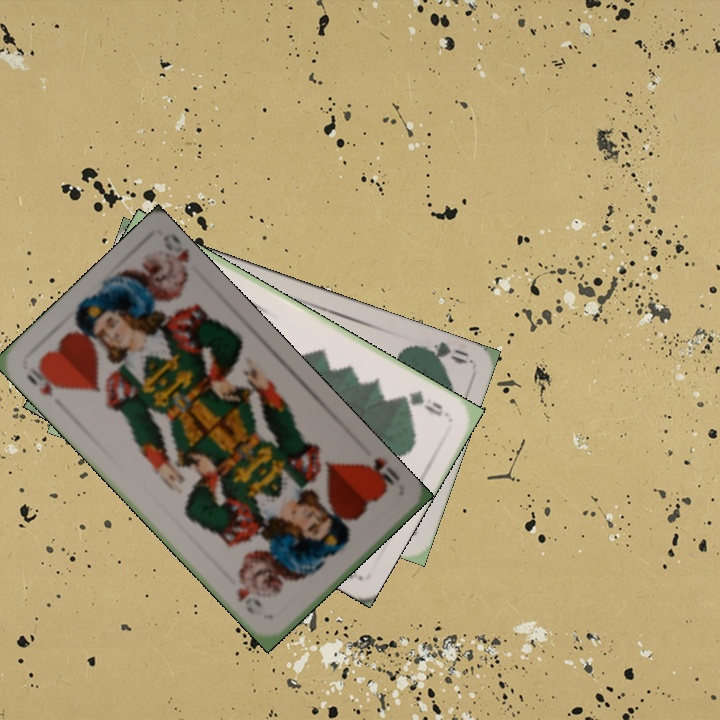G9: (394, 386, 451, 420)
GO: (412, 337, 469, 368)
HO: (356, 453, 403, 495), (22, 363, 65, 400)
